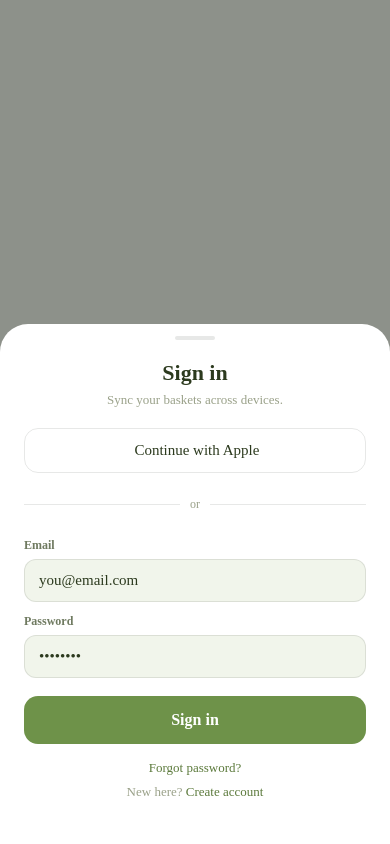
Test: AuthSheet › failed sign in › shows error text when auth returns error
Type "fail@example.com" into the field with test id "auth-email" at point(195, 580), box [24,559,366,602]
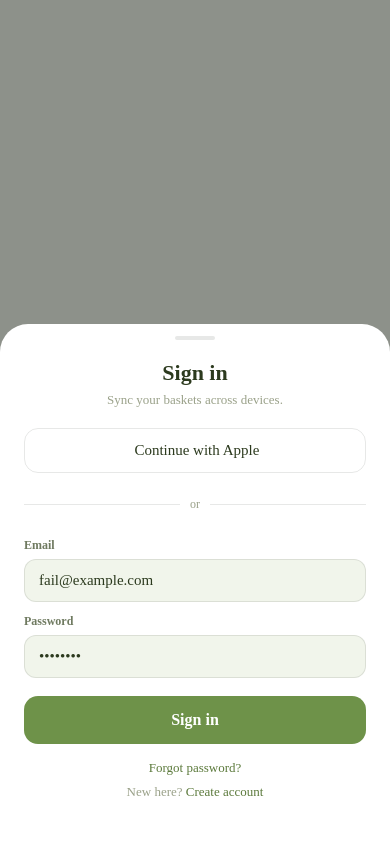
Type "password123" into the password field with test id "auth-password" at point(195, 656), box [24,635,366,678]
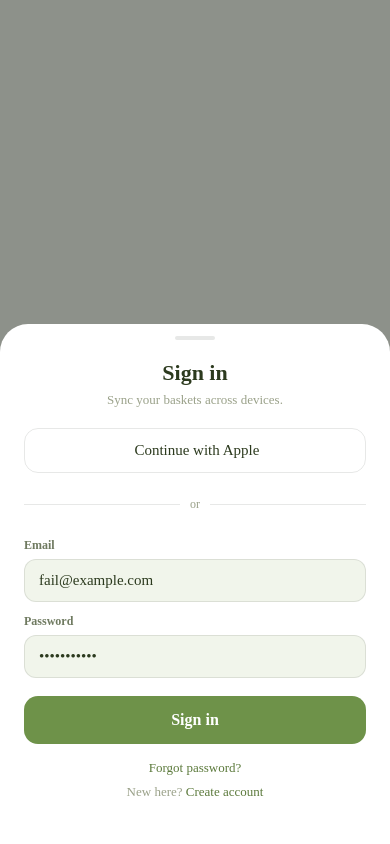
Click the element with test id "auth-submit" at point(195, 720), box [24,696,366,744]
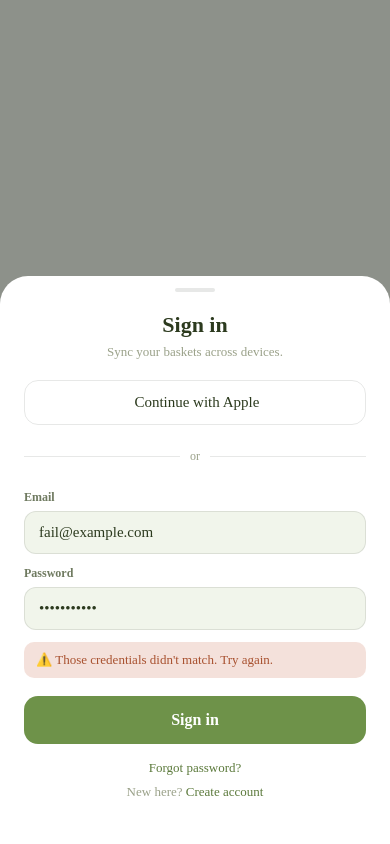
Expected: the text "⚠️ Those credentials didn't match. Try again." is shown, [36,652,273,667]
